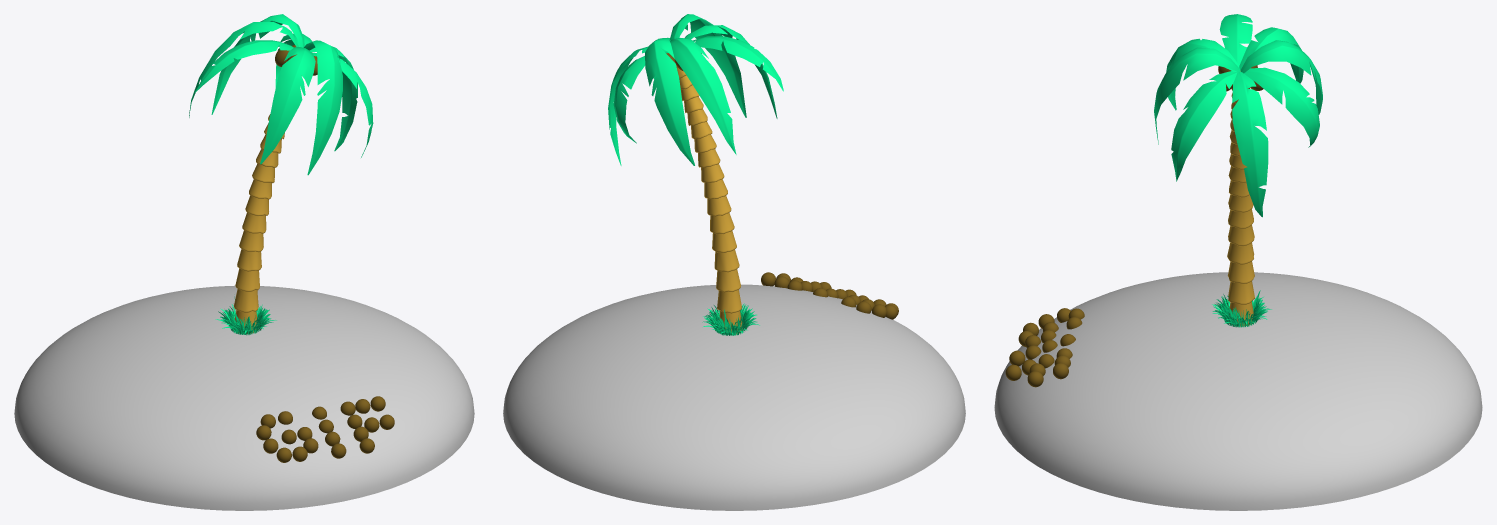
File: island.fbx
The picture shows the model from 3 angles, left to right: view 1: azimuth 30°, elevation 25°; view 2: azimuth 150°, elevation 25°; view 3: azimuth 270°, elevation 25°; orthographic projection. The views are drawn at different scales.
Visible parts, largest first — view 1: Island, Palm_leaf, Palm_trunk, Coconuts, Palm_grass; view 2: Island, Palm_leaf, Palm_trunk, Coconuts, Palm_grass; view 3: Island, Palm_leaf, Palm_trunk, Coconuts, Palm_grass.
Boxes of the visible parts, x1,y1,x2,y2 form: Island: (14,285,474,510); Palm_leaf: (189,14,373,175); Palm_trunk: (234,114,284,333); Coconuts: (256,396,394,462); Palm_grass: (215,296,276,335); Island: (503,284,965,510); Palm_leaf: (608,14,783,165); Palm_trunk: (669,53,742,334); Coconuts: (761,272,898,319); Palm_grass: (702,303,759,335); Island: (994,272,1482,510); Palm_leaf: (1154,14,1322,217); Palm_trunk: (1227,71,1254,326); Coconuts: (1005,308,1084,387); Palm_grass: (1212,290,1271,327).
Size of the model in its own units: 600 by 534 by 600.
